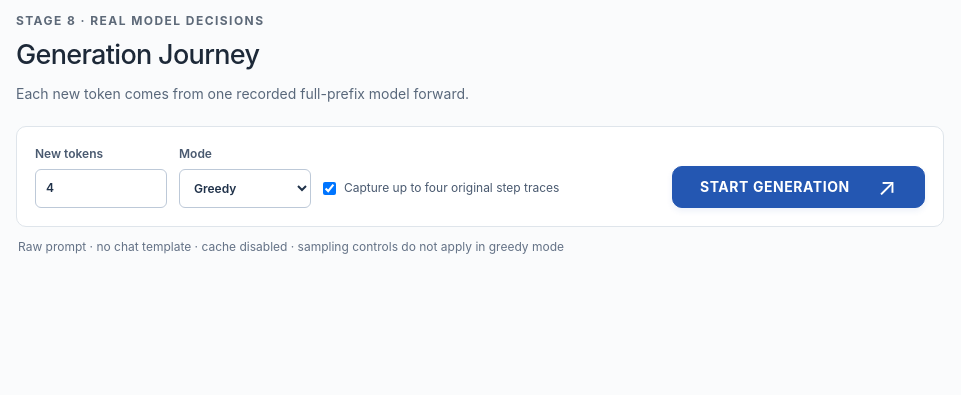
Scenario: Generation Journey › validates sampled settings before any generation request
This screenshot has width=961, height=395.
Select "Sampled" in the dropdown named "Generation mode" at (245, 188), box 179,168 -> 311,208
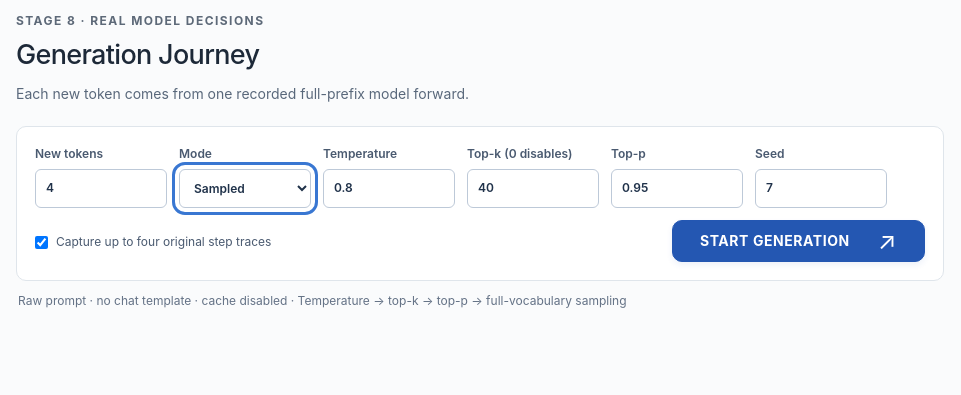
Replace the text in the number field named "Sampling seed" with "-1" at (821, 188), box 755,168 -> 887,208
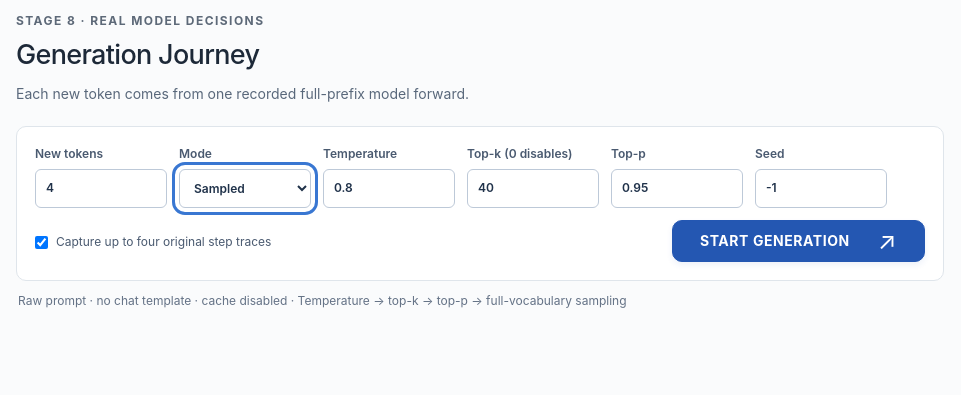
Click the button "START GENERATION ↗" at (799, 240), box 672,220 -> 925,262
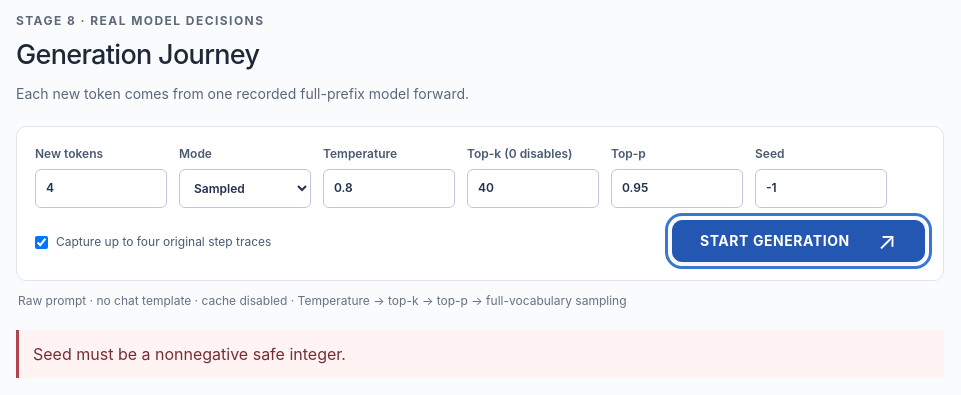
Expected: the message shows "Seed must be a nonnegative", 33,344 -> 346,364
